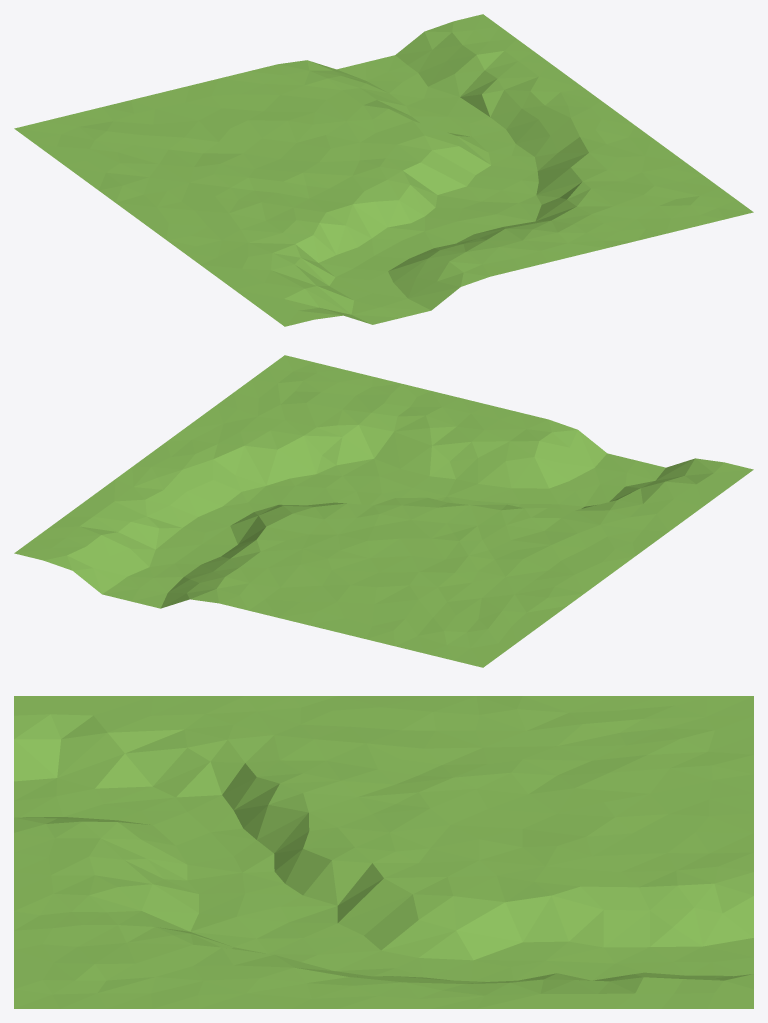
Rendered from MT_River_M_c_03_LOD.fbx.
3 renders of one model, top to bottom at view 1: azimuth 30°, elevation 25°; view 2: azimuth 150°, elevation 25°; view 3: azimuth 270°, elevation 25°, orthographic. The views are drawn at different scales.
Parts seen in each view (by area): view 1: MT_River_M_c_03_LOD0; view 2: MT_River_M_c_03_LOD0; view 3: MT_River_M_c_03_LOD0.
Part boxes in pixels (x1,y1,x2,y2): MT_River_M_c_03_LOD0: (14, 14, 753, 326); MT_River_M_c_03_LOD0: (14, 355, 753, 667); MT_River_M_c_03_LOD0: (14, 696, 753, 1008).
Size of what is drawn, in the model's own units: 5000 by 227 by 5000.
